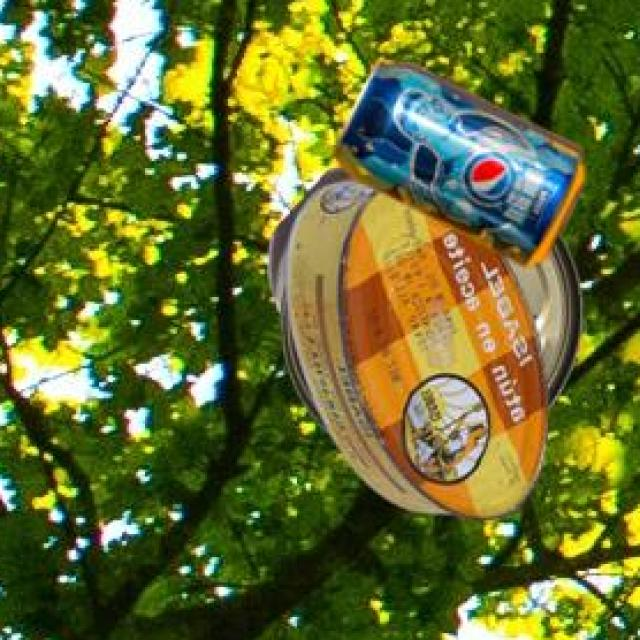logam: (284, 185, 544, 524), (266, 169, 579, 434), (335, 66, 579, 271)
